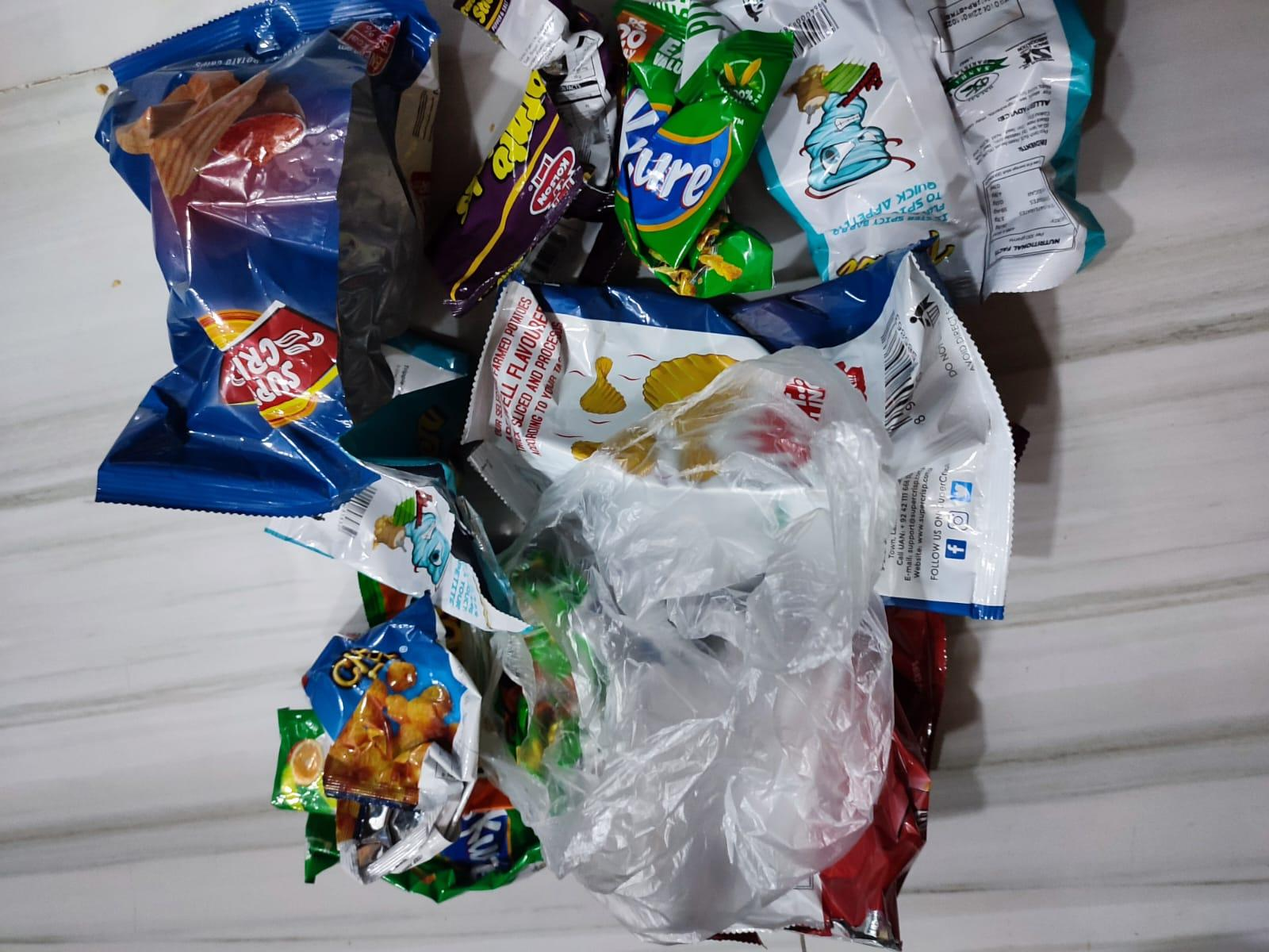garbage: (97, 0, 1197, 942)
